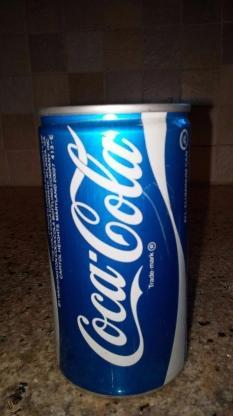Can: (39, 95, 189, 398)
